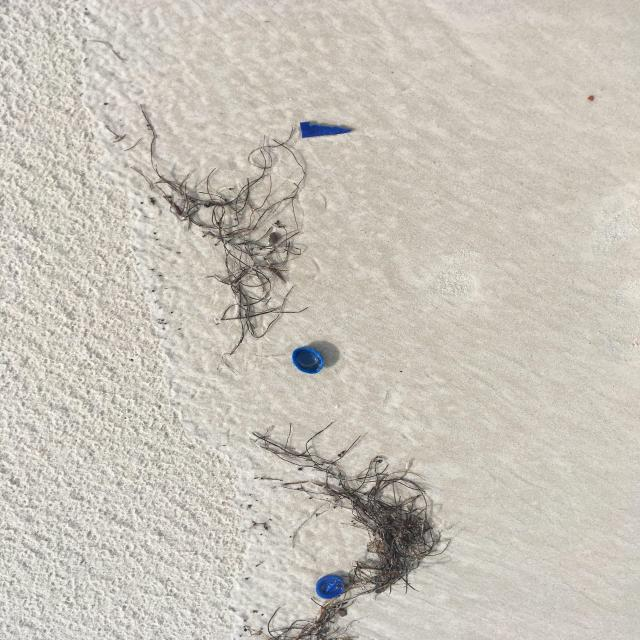litter: (308, 568, 361, 601), (285, 340, 332, 373)
